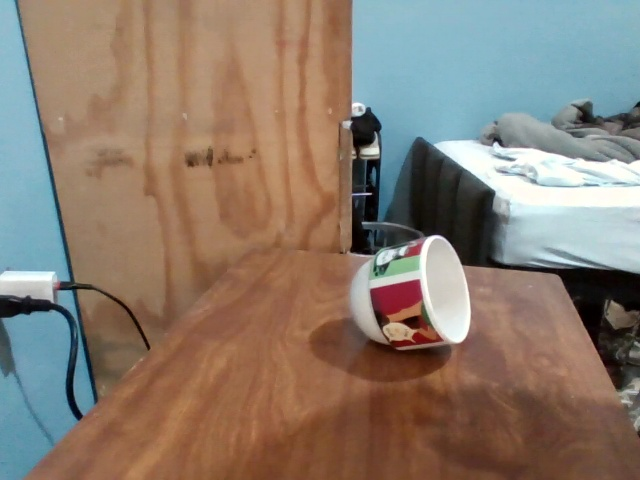taza: (350, 234, 472, 350)
